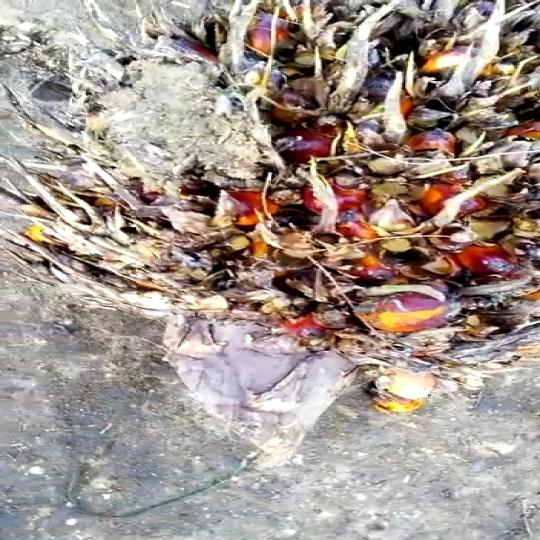terlalu masak: (31, 2, 540, 443)
